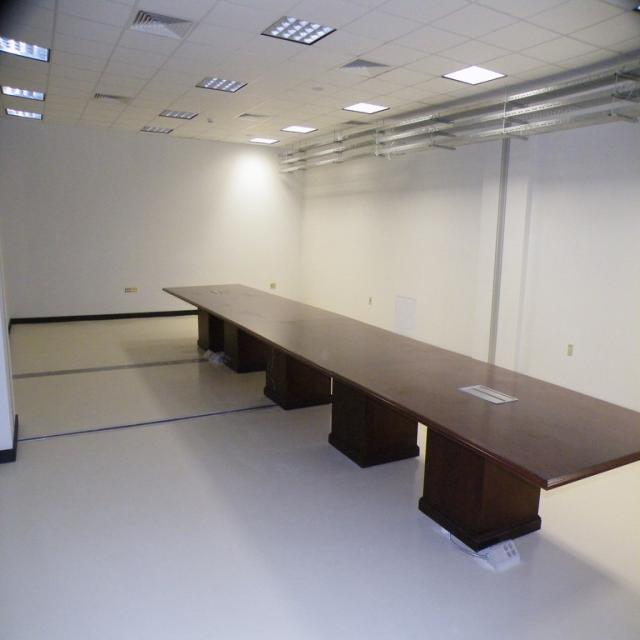desk: (160, 279, 640, 554)
